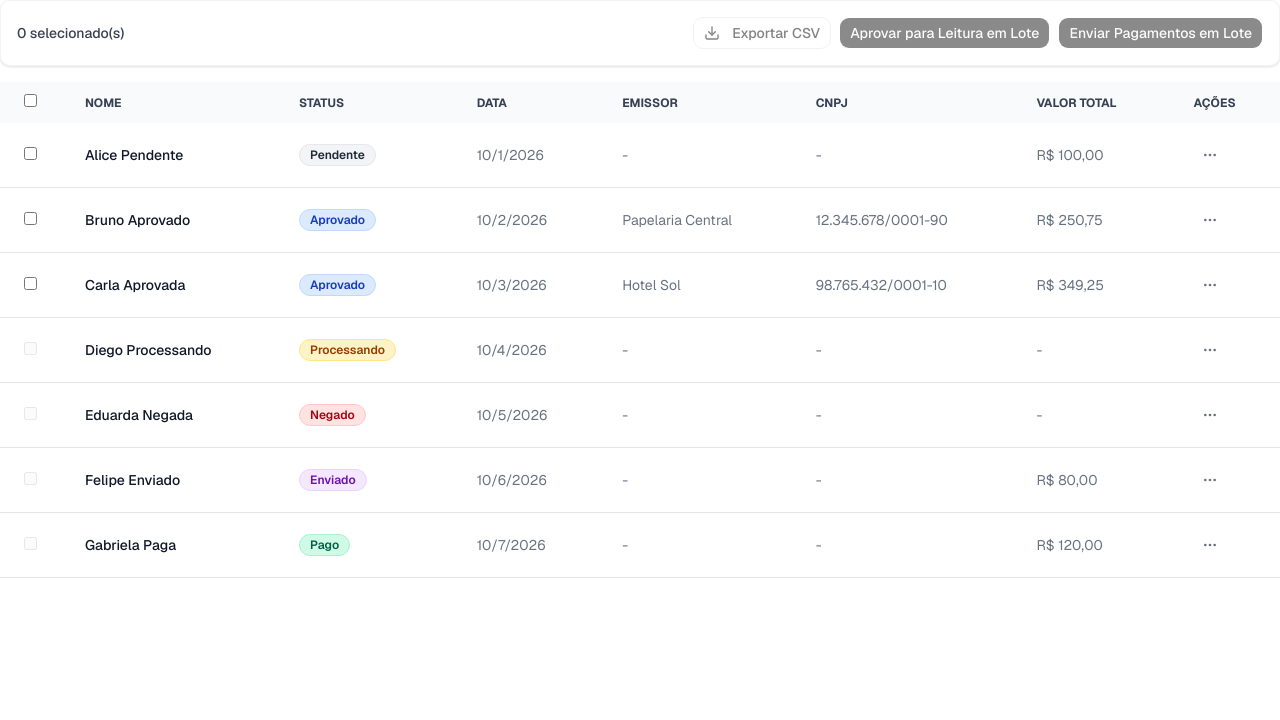
Test case: RequestsTable › Bulk Selection and BatchPaymentDialog › should enable 'Enviar Pagamentos em Lote' and keep 'Aprovar para Leitura em Lote' disabled when only an APPROVED row is selected
Click the checkbox named "Selecionar solicitação de Bruno Aprovado": (30, 218) [24,212,37,225]
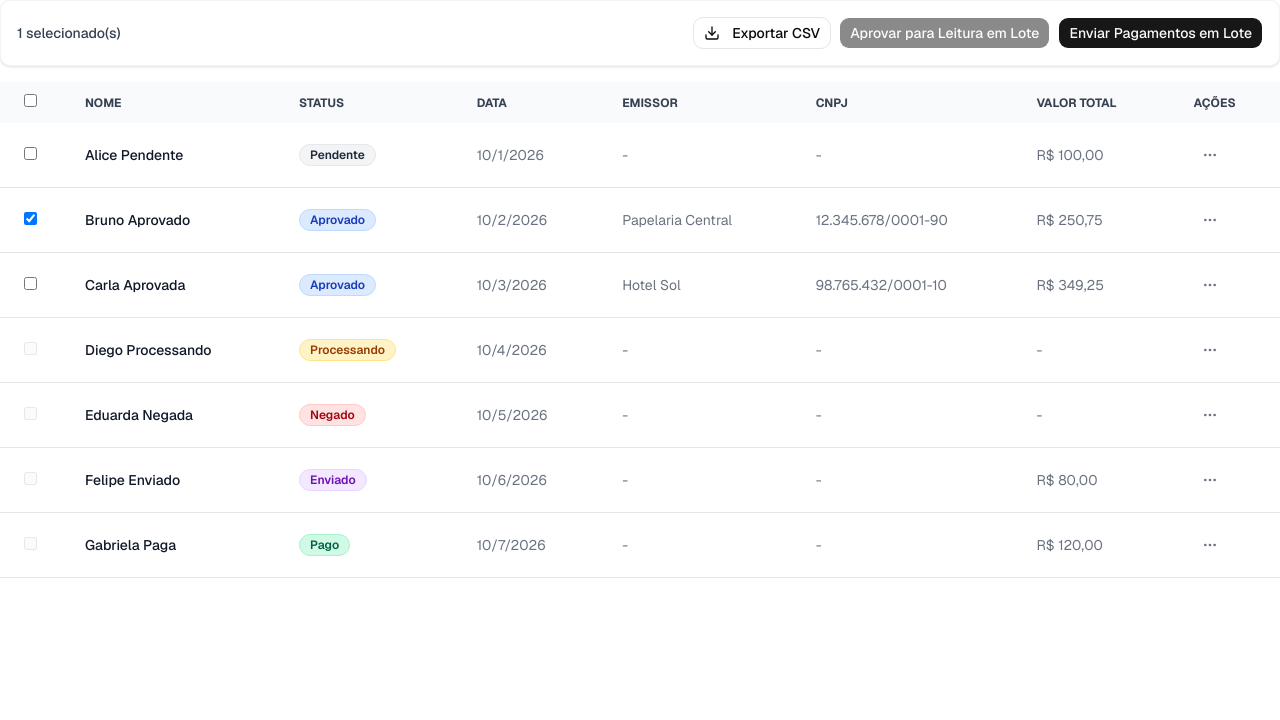
Expected: the button "Aprovar para Leitura em Lote" is disabled, [839,17,1050,49]
Now the text "1 selecionado(s)" is shown, box [17,23,121,43]
Now the button "Enviar Pagamentos em Lote" is enabled, box [1058,17,1263,49]
